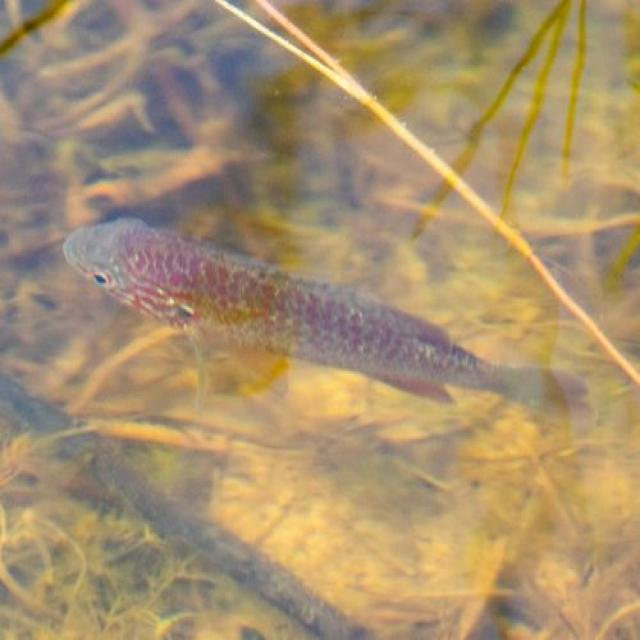Gunes Levregi: (58, 214, 617, 453)
